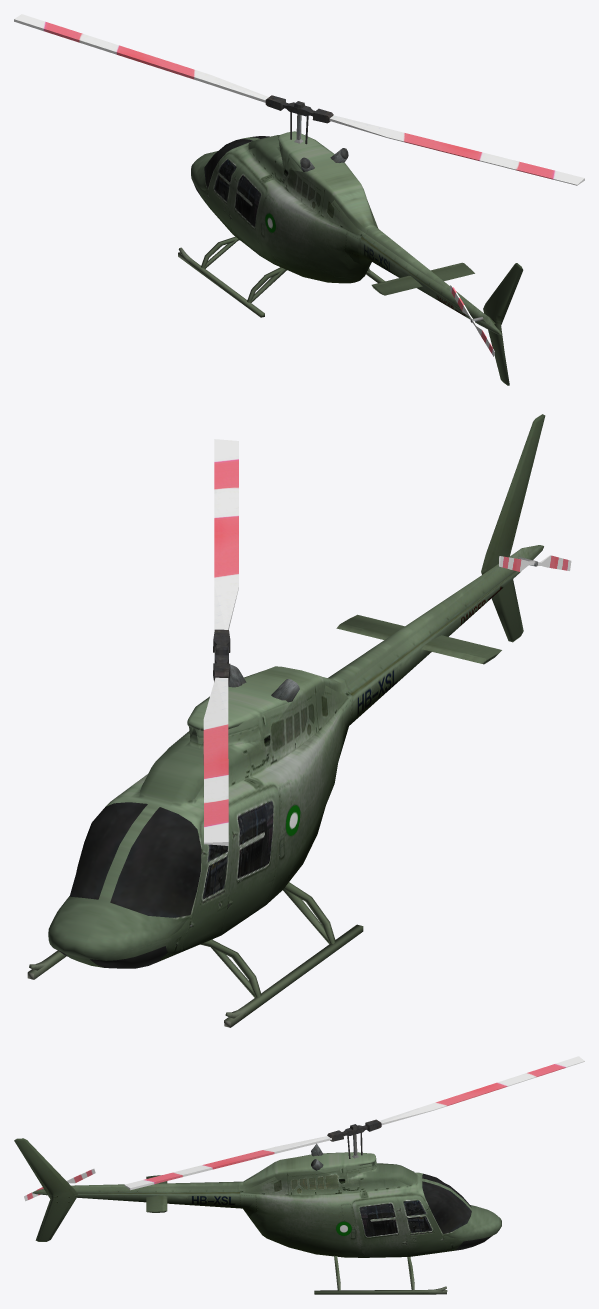
The model's file is AGASTANew.fbx.
The picture shows the model from 3 angles, top to bottom: view 1: azimuth 30°, elevation 25°; view 2: azimuth 150°, elevation 25°; view 3: azimuth 270°, elevation 25°; orthographic projection. The views are drawn at different scales.
Parts seen in each view (by area): view 1: db1; view 2: db1; view 3: db1.
Boxes of the visible parts, x1,y1,x2,y2 form: db1: [14, 14, 584, 385]; db1: [27, 414, 571, 1027]; db1: [14, 1056, 584, 1294].
Bounding box in the file's own units: 519 × 337 × 1109.
